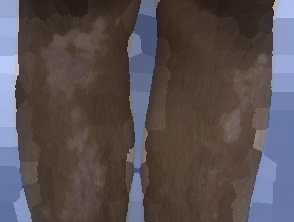vitiligo: (18, 0, 130, 106), (204, 38, 291, 162), (48, 109, 125, 222), (196, 161, 231, 222)
